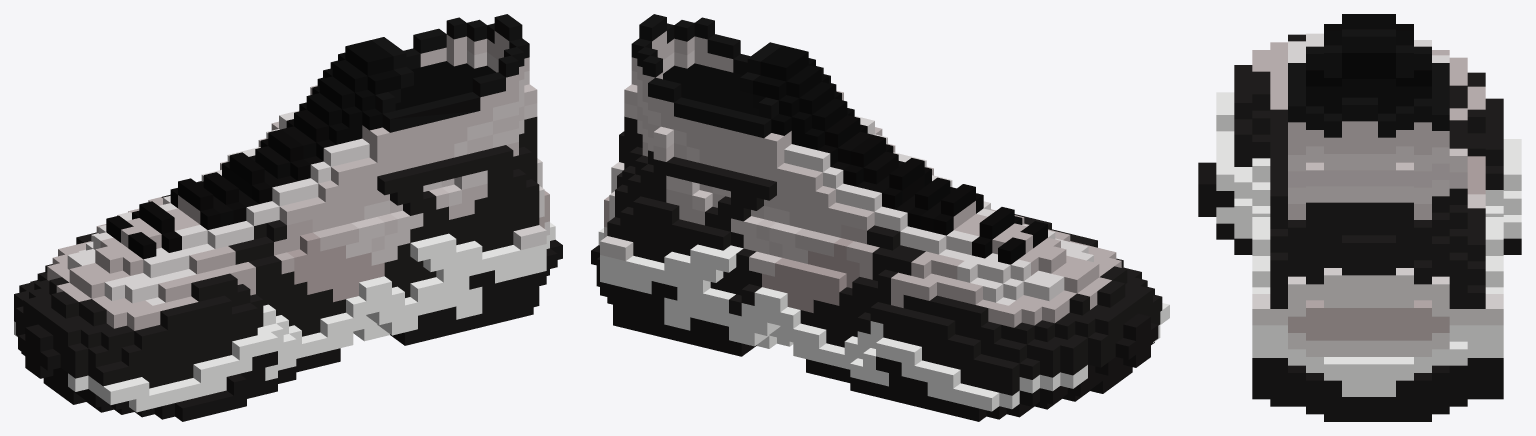
File: Oreo.fbx
3 views of the same model, side by side, from view 1: azimuth 30°, elevation 25°; view 2: azimuth 150°, elevation 25°; view 3: azimuth 270°, elevation 25° (orthographic). The views are drawn at different scales.
Parts seen in each view (by area): view 1: Untitled; view 2: Untitled; view 3: Untitled.
Part boxes in pixels (x1=…): Untitled: x1=14, y1=14, x2=562, y2=421; Untitled: x1=591, y1=14, x2=1169, y2=421; Untitled: x1=1198, y1=14, x2=1521, y2=421.
Size of the model in its own units: 400 by 190 by 180.
